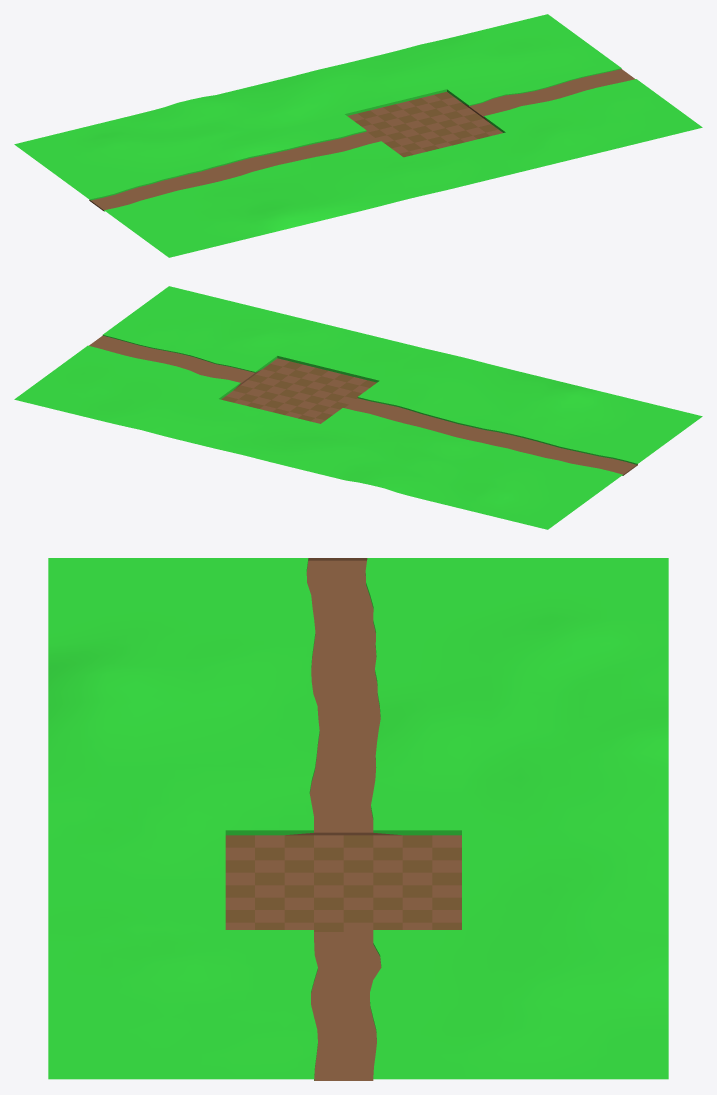
Rendered from ForestGameField.fbx.
3 views of the same model, one above another, from view 1: azimuth 30°, elevation 25°; view 2: azimuth 150°, elevation 25°; view 3: azimuth 270°, elevation 25° (orthographic). The views are drawn at different scales.
Parts seen in each view (by area): view 1: Cube; view 2: Cube; view 3: Cube.
Boxes of the visible parts, x1,y1,x2,y2 form: Cube: [14, 14, 702, 257]; Cube: [14, 286, 702, 529]; Cube: [48, 558, 668, 1080].
Size of the model in its own units: 1902 by 20.56 by 957.
